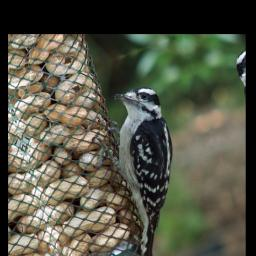Woodpecker: (79, 74, 215, 256)
